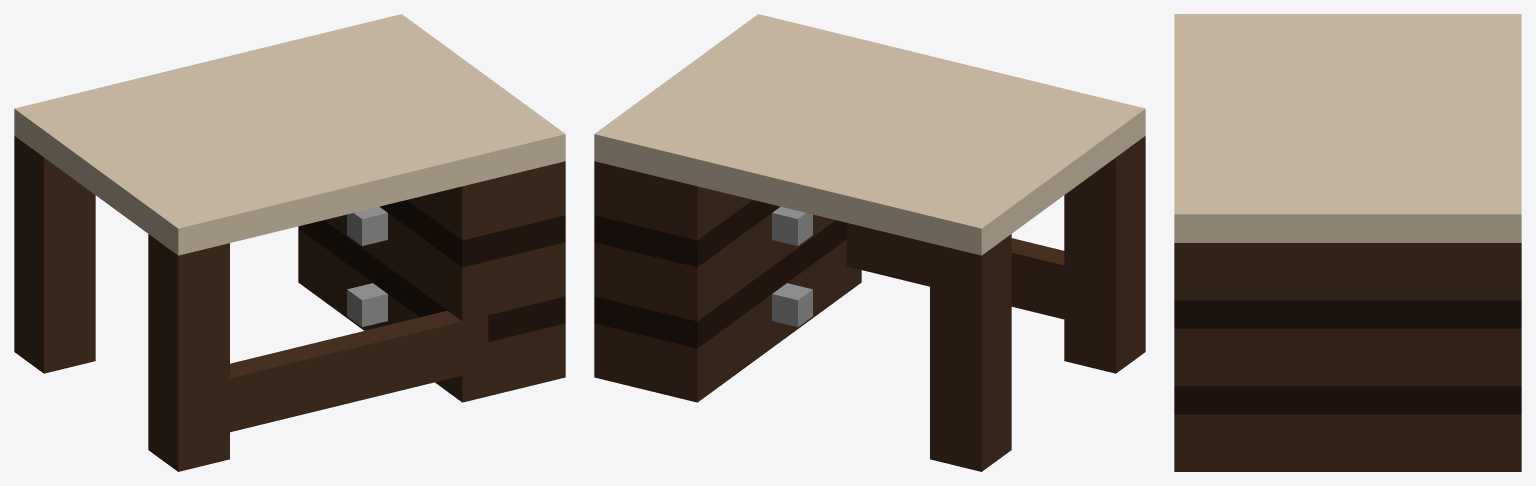
Rendered from desk.gltf.
3 views of the same model, side by side, from view 1: azimuth 30°, elevation 25°; view 2: azimuth 150°, elevation 25°; view 3: azimuth 270°, elevation 25° (orthographic). The views are drawn at different scales.
Parts seen in each view (by area): view 1: Layer.1; view 2: Layer.1; view 3: Layer.1.
Boxes of the visible parts, x1,y1,x2,y2 form: Layer.1: [14, 14, 565, 471]; Layer.1: [594, 14, 1145, 471]; Layer.1: [1174, 14, 1521, 471].
Size of the model in its own units: 15 by 9 by 11.
